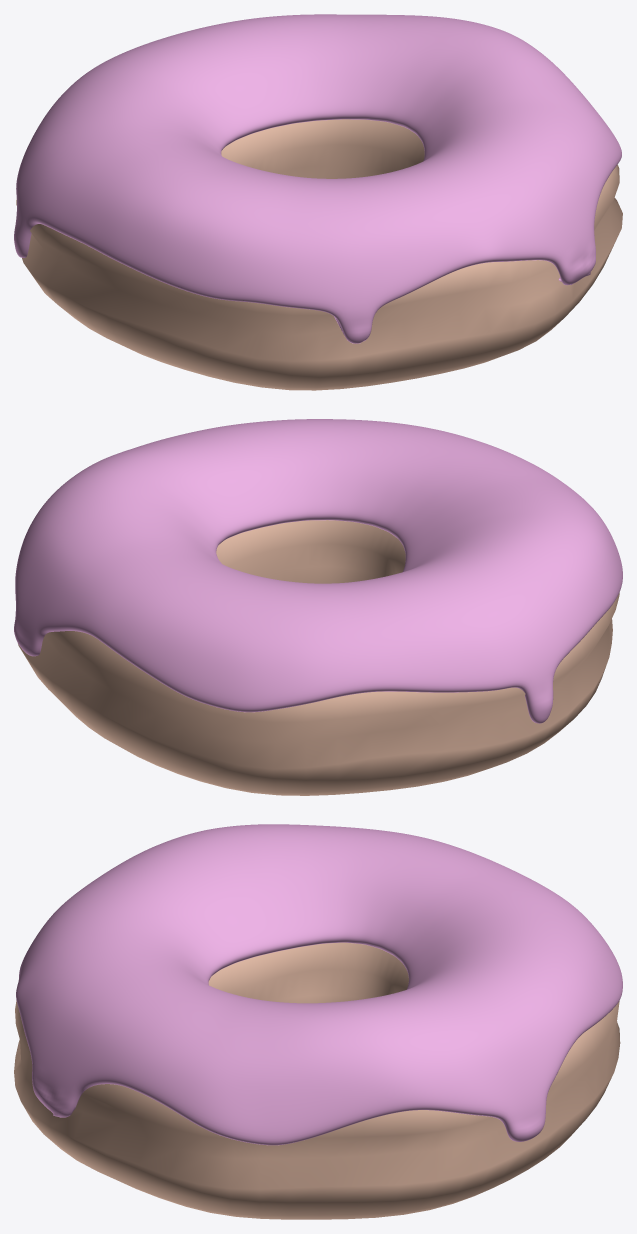
Rendered from donut.glb.
3 views of the same model, one above another, from view 1: azimuth 30°, elevation 25°; view 2: azimuth 150°, elevation 25°; view 3: azimuth 270°, elevation 25° (orthographic). The views are drawn at different scales.
Visible parts, largest first — view 1: Icing, Donut; view 2: Icing, Donut; view 3: Icing, Donut.
Boxes of the visible parts, left/top/right/bottom form: Icing: left=14, top=14, right=621, bottom=343; Donut: left=16, top=119, right=622, bottom=390; Icing: left=14, top=419, right=622, bottom=723; Donut: left=18, top=520, right=619, bottom=795; Icing: left=16, top=824, right=622, bottom=1145; Donut: left=14, top=942, right=620, bottom=1219.
Size of what is drawn, in the model's own units: 0.1554 by 0.0559 by 0.1499.
